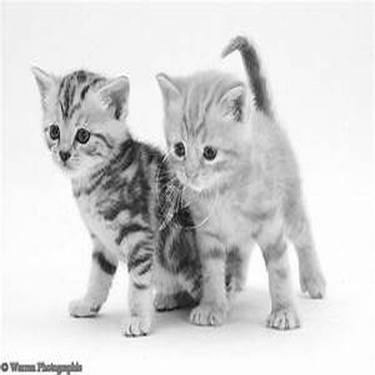cat: (25, 65, 226, 340), (151, 32, 329, 331)
